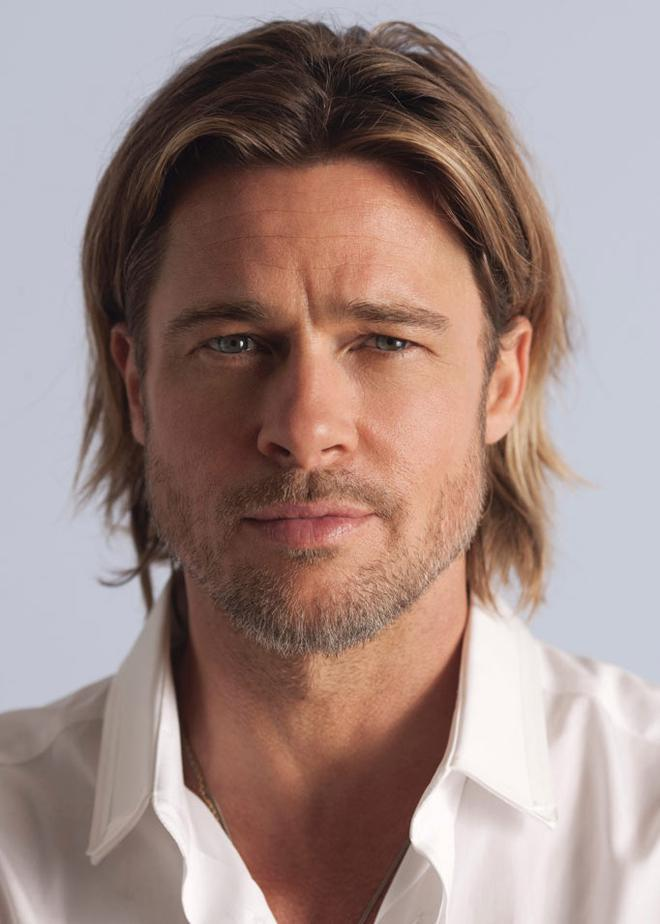Sober: (151, 176, 467, 612)
